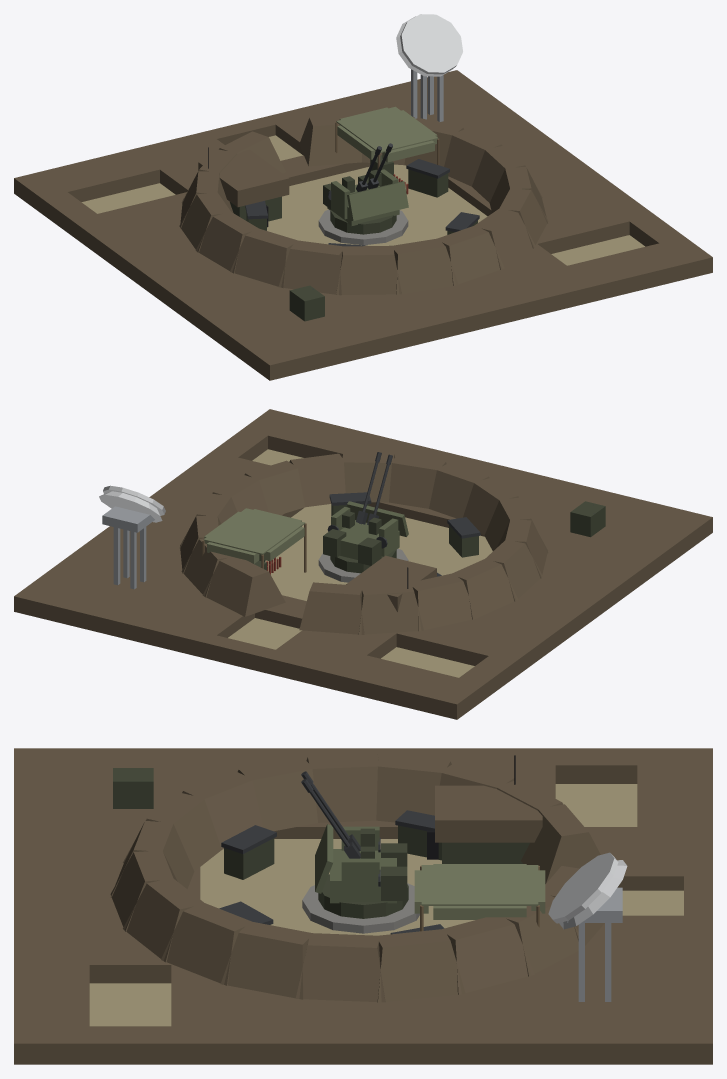
Rendered from Fort_AaPosition.obj.
3 views of the same model, one above another, from view 1: azimuth 30°, elevation 25°; view 2: azimuth 150°, elevation 25°; view 3: azimuth 270°, elevation 25° (orthographic). The views are drawn at different scales.
Bounding box in the file's own units: 24 × 5.98 × 24.
